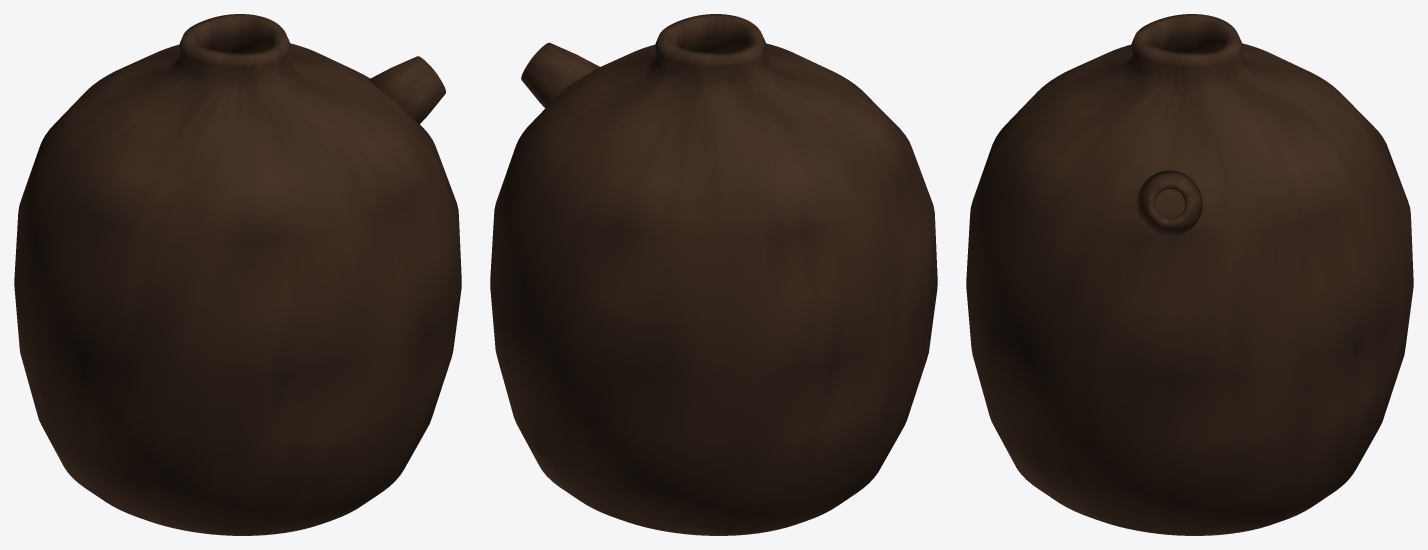
3 views of the same model, side by side, from view 1: azimuth 30°, elevation 25°; view 2: azimuth 150°, elevation 25°; view 3: azimuth 270°, elevation 25° (orthographic).
Parts seen in each view (by area): view 1: Medicine urine bottle | short mouth and rounded shoulder, Small raised side spout; view 2: Medicine urine bottle | short mouth and rounded shoulder, Small raised side spout; view 3: Medicine urine bottle | short mouth and rounded shoulder, Small raised side spout.
Part boxes in pixels (left/top/right/bottom): Medicine urine bottle | short mouth and rounded shoulder: left=14, top=14, right=461, bottom=535; Small raised side spout: left=369, top=56, right=445, bottom=124; Medicine urine bottle | short mouth and rounded shoulder: left=490, top=14, right=937, bottom=535; Small raised side spout: left=521, top=42, right=599, bottom=108; Medicine urine bottle | short mouth and rounded shoulder: left=966, top=14, right=1413, bottom=535; Small raised side spout: left=1136, top=170, right=1202, bottom=236.
Size of the model in its own units: 0.266 by 0.29 by 0.266.
